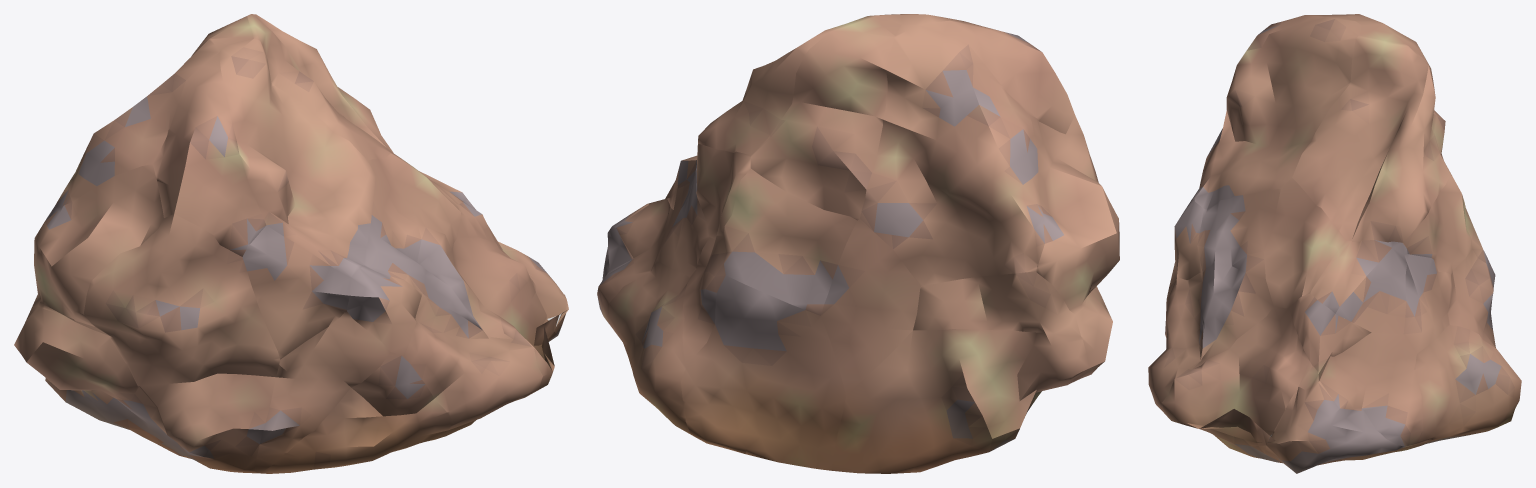
The model's file is iron_rock.glb.
The picture shows the model from 3 angles, left to right: view 1: azimuth 30°, elevation 25°; view 2: azimuth 150°, elevation 25°; view 3: azimuth 270°, elevation 25°; orthographic projection. The views are drawn at different scales.
Parts seen in each view (by area): view 1: Chunk_12, Chunk_28, Chunk_25, Chunk_17, Chunk_02, Chunk_10, Chunk_04, Chunk_07, Chunk_20, Chunk_22, Chunk_29, Chunk_05 (+8 smaller); view 2: Chunk_22, Chunk_01, Chunk_06, Chunk_27, Chunk_19, Chunk_14, Chunk_17, Chunk_03, Chunk_09, Chunk_25, Chunk_29, Chunk_08 (+8 smaller); view 3: Chunk_29, Chunk_28, Chunk_05, Chunk_03, Chunk_08, Chunk_00, Chunk_21, Chunk_26, Chunk_18, Chunk_23, Chunk_10, Chunk_24 (+7 smaller).
Part boxes in pixels (<box>): Chunk_12: <box>84,214,280,470</box>; Chunk_28: <box>219,38,375,277</box>; Chunk_25: <box>153,53,266,256</box>; Chunk_17: <box>34,164,163,326</box>; Chunk_02: <box>259,352,454,473</box>; Chunk_10: <box>404,293,542,428</box>; Chunk_04: <box>21,306,258,473</box>; Chunk_07: <box>254,310,390,472</box>; Chunk_20: <box>242,225,350,359</box>; Chunk_22: <box>45,39,226,220</box>; Chunk_29: <box>247,14,399,160</box>; Chunk_05: <box>452,237,561,429</box>; Chunk_22: <box>860,24,1044,285</box>; Chunk_01: <box>831,329,1089,473</box>; Chunk_06: <box>681,275,845,470</box>; Chunk_27: <box>750,16,901,220</box>; Chunk_19: <box>723,168,857,315</box>; Chunk_14: <box>820,219,920,395</box>; Chunk_17: <box>1028,114,1119,314</box>; Chunk_03: <box>608,259,694,436</box>; Chunk_09: <box>913,271,1080,336</box>; Chunk_25: <box>920,20,1074,134</box>; Chunk_29: <box>698,15,876,155</box>; Chunk_08: <box>597,196,673,324</box>; Chunk_29: <box>1292,35,1450,242</box>; Chunk_28: <box>1191,17,1361,209</box>; Chunk_05: <box>1162,306,1311,459</box>; Chunk_03: <box>1396,324,1521,451</box>; Chunk_08: <box>1314,332,1423,446</box>; Chunk_00: <box>1264,366,1412,473</box>; Chunk_21: <box>1310,240,1407,334</box>; Chunk_26: <box>1264,178,1345,308</box>; Chunk_18: <box>1192,251,1273,369</box>; Chunk_23: <box>1197,189,1280,272</box>; Chunk_10: <box>1148,273,1202,411</box>; Chunk_24: <box>1403,175,1471,274</box>.
Size of the model in its own units: 3.24 by 2.37 by 2.24.
